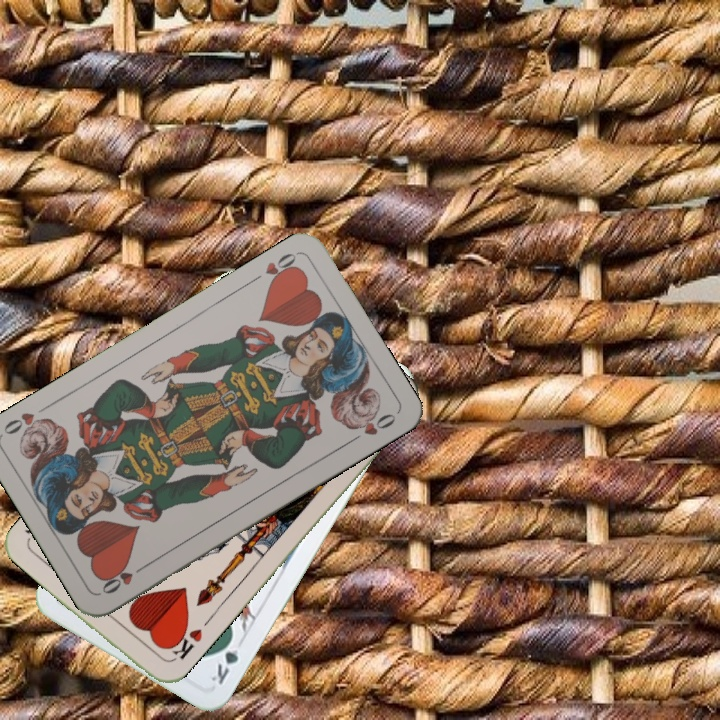GK: (207, 631, 244, 688)
HK: (162, 619, 205, 665)
HO: (247, 248, 301, 289), (97, 559, 150, 597)
